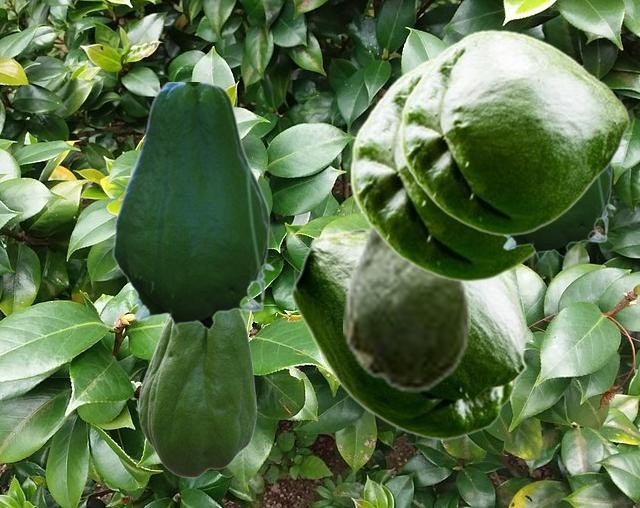sayote: (291, 228, 527, 439), (399, 29, 629, 235), (349, 55, 539, 281), (112, 82, 274, 334), (343, 221, 469, 392), (138, 311, 256, 477), (502, 164, 615, 260)
